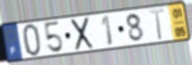0: (22, 23, 43, 58)
1: (101, 14, 114, 48)
5: (41, 20, 65, 54)
8: (125, 12, 146, 43)
T: (148, 7, 166, 42)
X: (70, 16, 95, 53)
